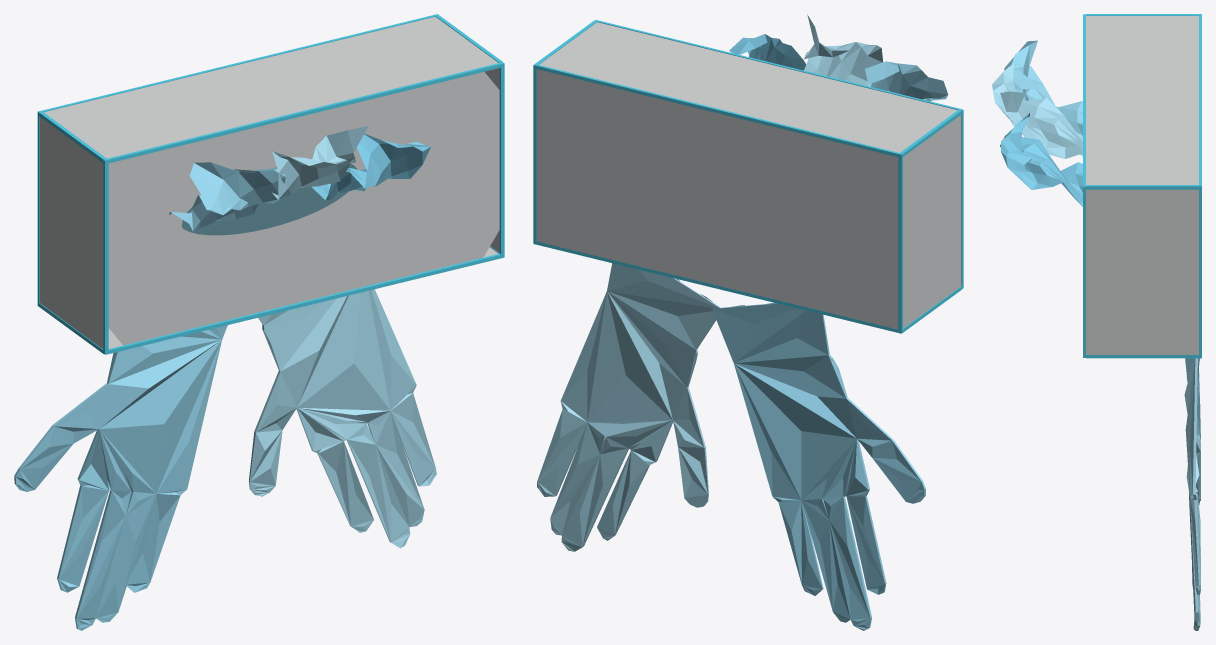
File: glove_box.glb
3 renders of one model, left to right at view 1: azimuth 30°, elevation 25°; view 2: azimuth 150°, elevation 25°; view 3: azimuth 270°, elevation 25°, orthographic. The views are drawn at different scales.
Parts seen in each view (by area): view 1: Box_Cardboard, Loose_Glove_Left, Loose_Glove_Right, Printed_Blue_Edge_Trim, Glove_Protruding_Through_Slot_1, Glove_Protruding_Through_Slot_3, Glove_Protruding_Through_Slot_2, Inset_Dark_Slot; view 2: Box_Cardboard, Loose_Glove_Left, Loose_Glove_Right, Printed_Blue_Edge_Trim, Glove_Protruding_Through_Slot_2, Glove_Protruding_Through_Slot_1, Glove_Protruding_Through_Slot_3; view 3: Box_Cardboard, Glove_Protruding_Through_Slot_2, Printed_Blue_Edge_Trim, Glove_Protruding_Through_Slot_3, Loose_Glove_Right, Glove_Protruding_Through_Slot_1, Loose_Glove_Left.
Part boxes in pixels (x1,y1,x2,y2): Box_Cardboard: [40, 16, 499, 348]; Loose_Glove_Left: [14, 325, 227, 630]; Loose_Glove_Right: [248, 289, 436, 548]; Printed_Blue_Edge_Trim: [37, 14, 504, 354]; Glove_Protruding_Through_Slot_1: [169, 162, 285, 231]; Glove_Protruding_Through_Slot_3: [312, 133, 431, 200]; Glove_Protruding_Through_Slot_2: [272, 126, 368, 199]; Inset_Dark_Slot: [181, 163, 357, 235]; Box_Cardboard: [537, 22, 961, 329]; Loose_Glove_Left: [712, 303, 925, 630]; Loose_Glove_Right: [537, 263, 722, 551]; Printed_Blue_Edge_Trim: [533, 20, 963, 333]; Glove_Protruding_Through_Slot_2: [804, 14, 882, 86]; Glove_Protruding_Through_Slot_1: [865, 61, 948, 101]; Glove_Protruding_Through_Slot_3: [729, 34, 806, 70]; Box_Cardboard: [1086, 16, 1198, 354]; Glove_Protruding_Through_Slot_2: [992, 63, 1082, 158]; Printed_Blue_Edge_Trim: [1083, 14, 1201, 358]; Glove_Protruding_Through_Slot_3: [1000, 113, 1082, 206]; Loose_Glove_Right: [1184, 358, 1200, 630]; Glove_Protruding_Through_Slot_1: [1004, 40, 1082, 155]; Loose_Glove_Left: [1185, 358, 1200, 505].
Size of the model in its own units: 0.3211 by 0.3939 by 0.1557.
